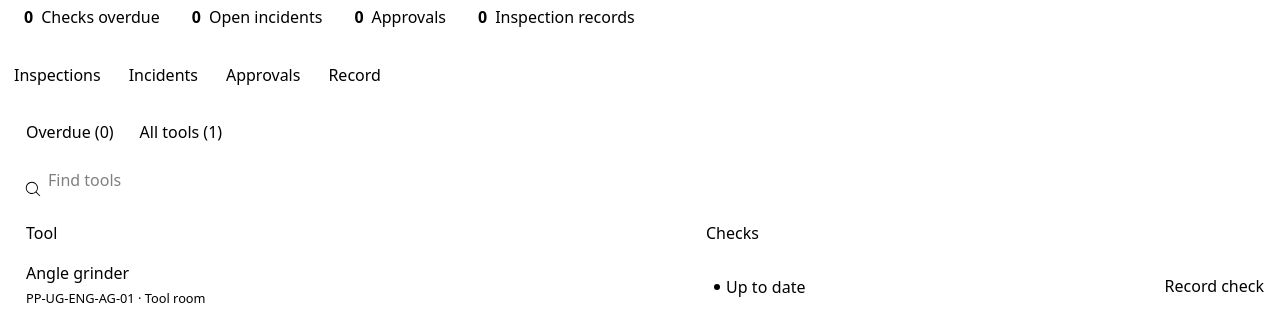
Test: ToolsCompliance › says plainly when there are no open incidents
The width and height of the screenshot is (1281, 320).
Click the tab "Incidents": [163, 75] box [127, 55, 200, 95]
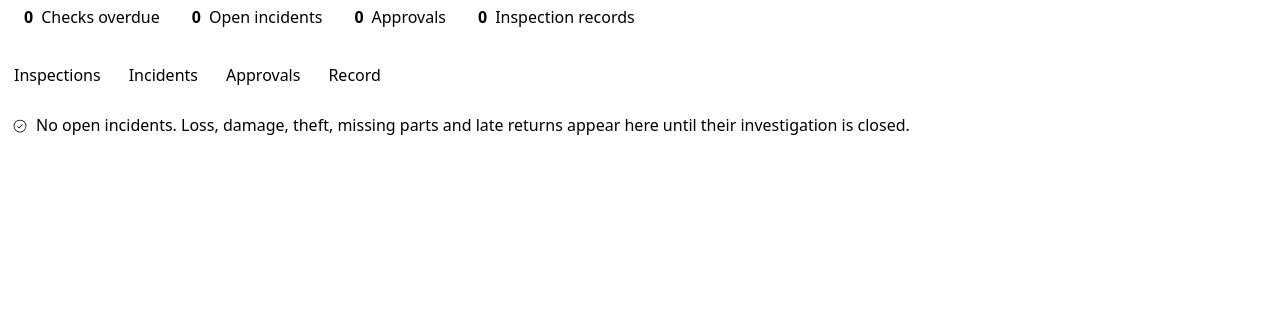
Now the text "No open incidents" is shown, box [36, 114, 910, 136]
